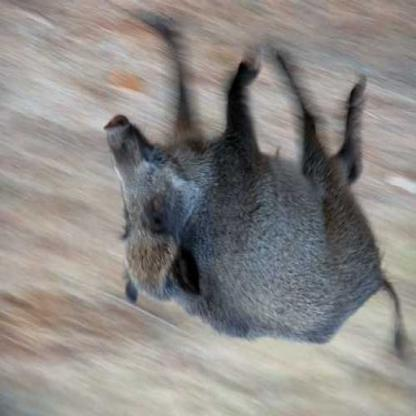boar: (66, 32, 415, 389)
